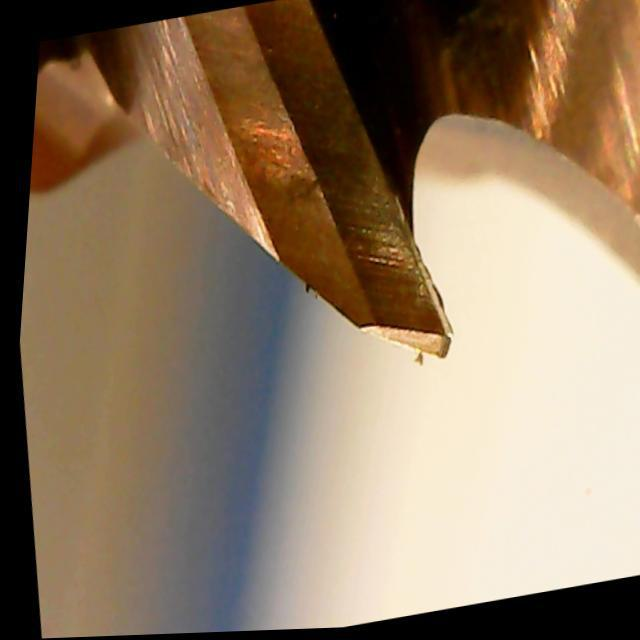Tool-wear-class-1: (293, 152, 474, 399)
